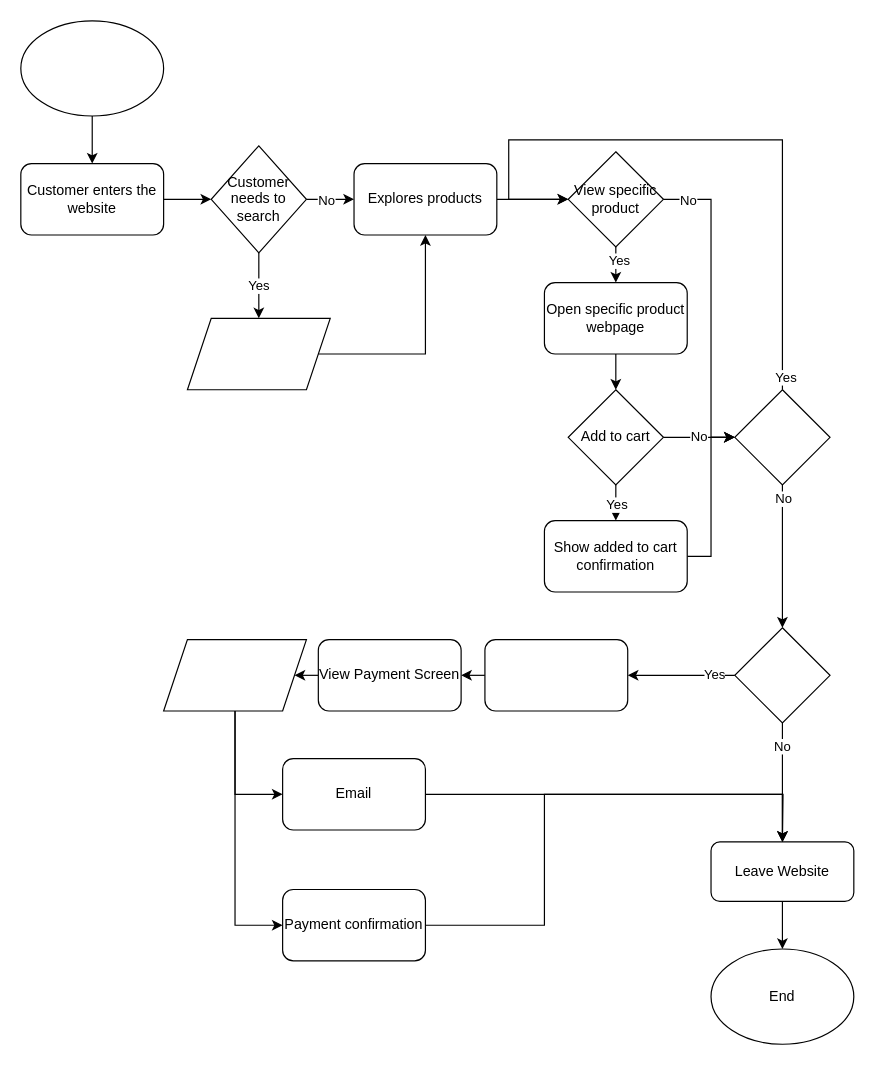
This 875x1065 diagram has some shape labels left out. Each missing label, with the centre of its shape:
"Check out" goes at point (782, 675).
"Continue shopping" goes at point (782, 437).
"Input Payment Information" goes at point (234, 674).
"Read search input" goes at point (258, 353).
"Start" goes at point (92, 68).
"View Cart Screen" goes at point (556, 674).
